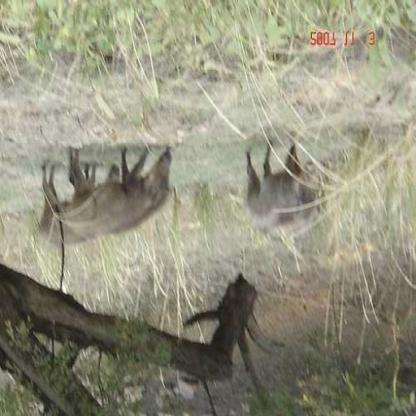boar: (68, 135, 173, 242), (241, 129, 347, 226)
